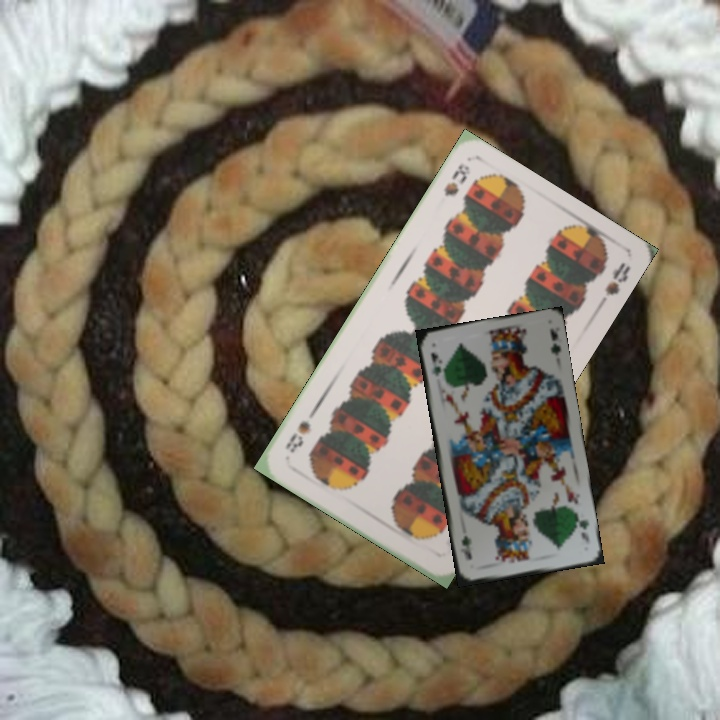GK: (572, 510, 592, 547), (427, 349, 444, 379)
S8: (440, 159, 473, 200)
